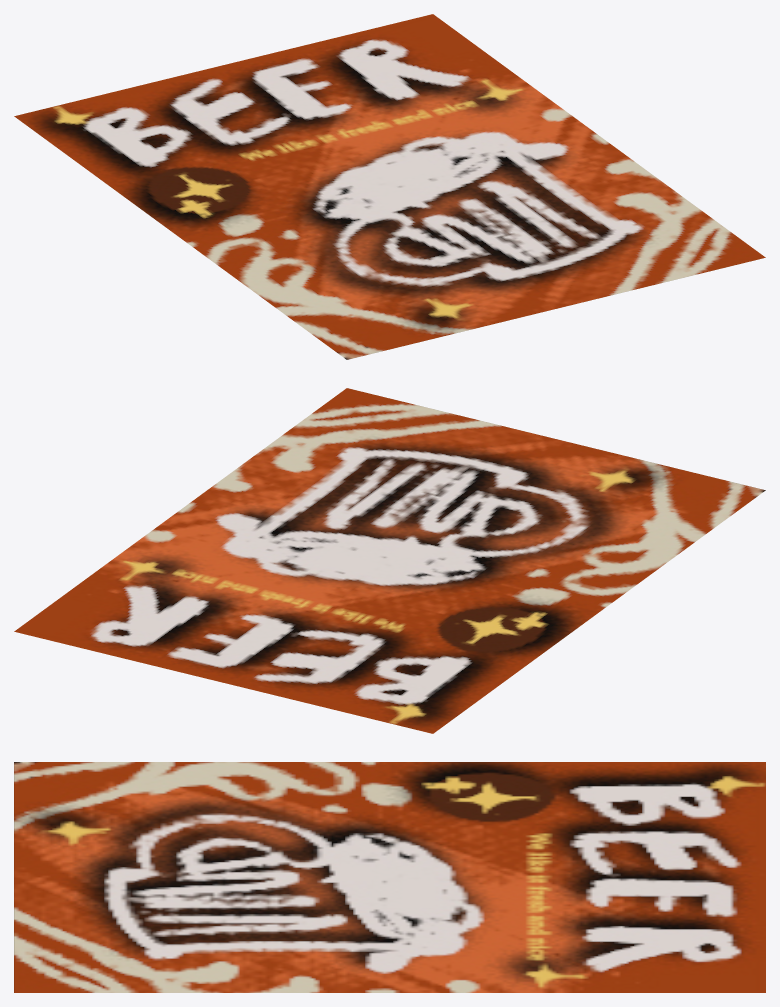
The model's file is Poster04.fbx.
3 views of the same model, one above another, from view 1: azimuth 30°, elevation 25°; view 2: azimuth 150°, elevation 25°; view 3: azimuth 270°, elevation 25° (orthographic). The views are drawn at different scales.
Parts seen in each view (by area): view 1: Poster04; view 2: Poster04; view 3: Poster04.
Boxes of the visible parts, left/top/right/bottom form: Poster04: left=14, top=14, right=765, bottom=359; Poster04: left=14, top=388, right=765, bottom=733; Poster04: left=14, top=762, right=765, bottom=992.
Bounding box in the file's own units: 26.59 × 0 × 36.59.
1 material, 1 textured.
